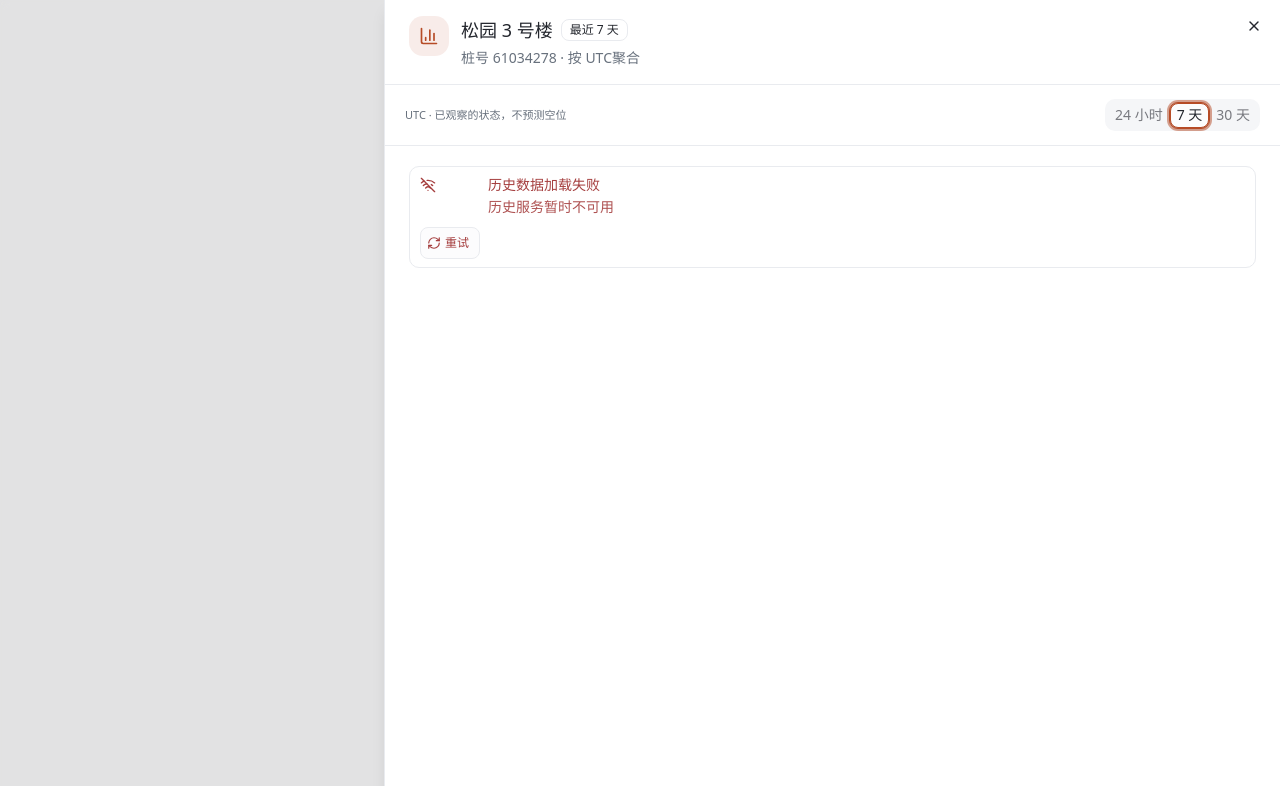
Test case: DeviceHistorySheet › offers a retry when the device history request fails
Check: the text "历史服务暂时不可用" is shown, box [488,197,614,216]
Click the button "重试" at (450, 243), box [420,227,480,259]
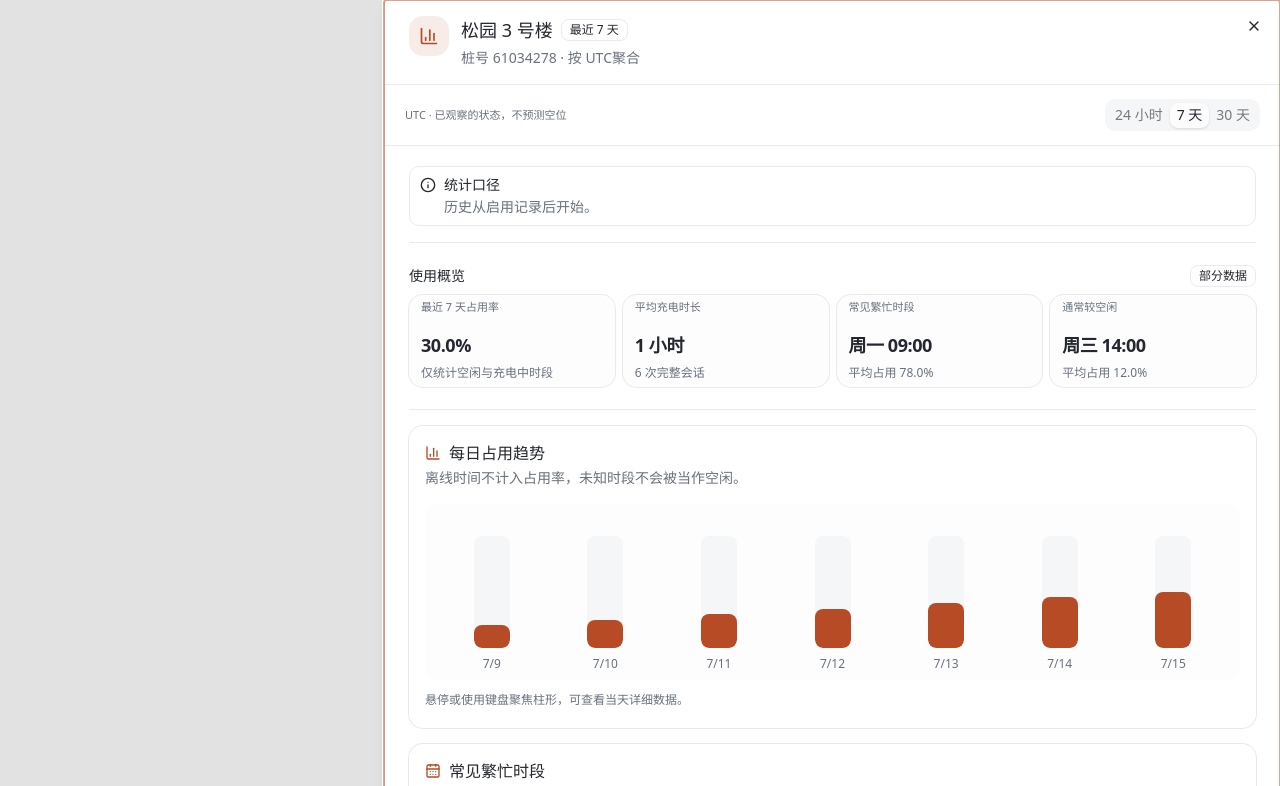
Check: the text "最近 7 天占用率" is shown, box [421,299,499,314]
